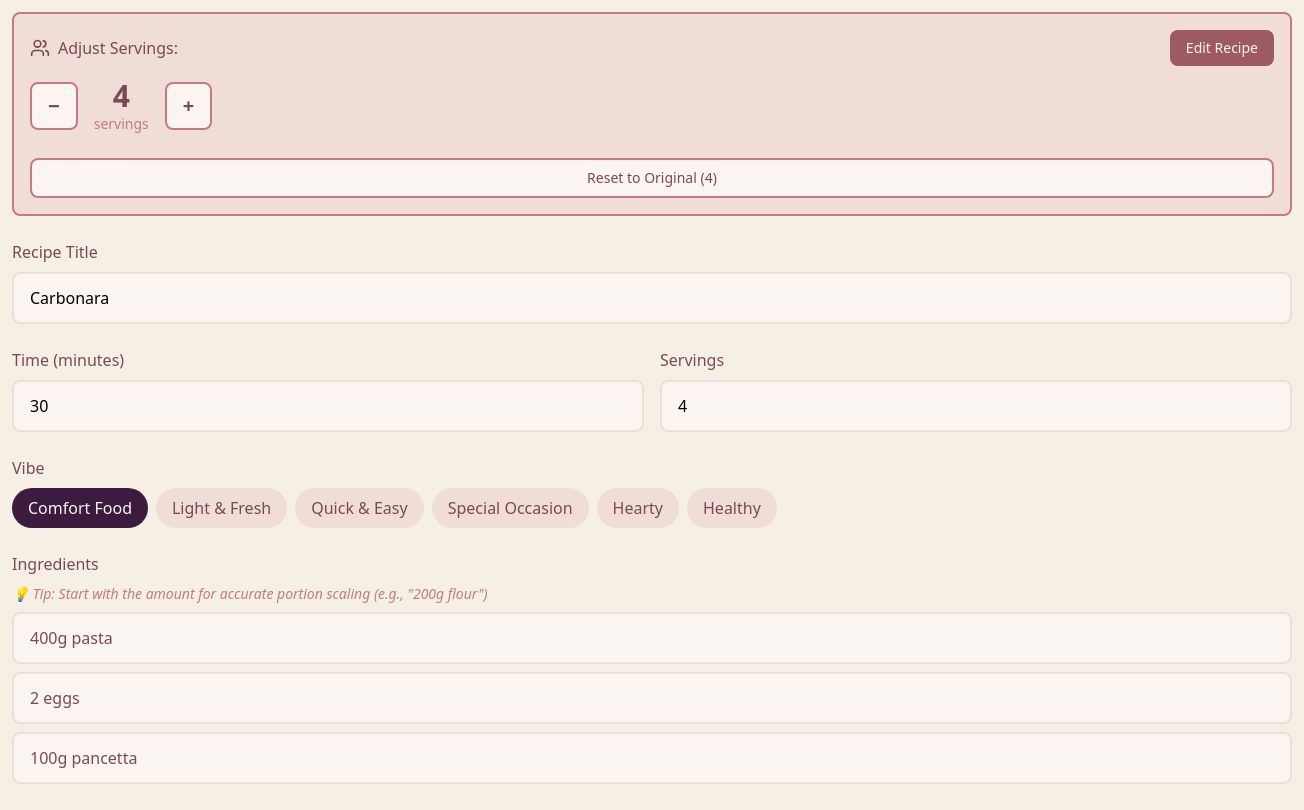
Scenario: switching from view to edit mode › should hide the portion calculator after switching to edit mode
Click the button "Edit Recipe": (1222, 48) [1170,30,1274,66]
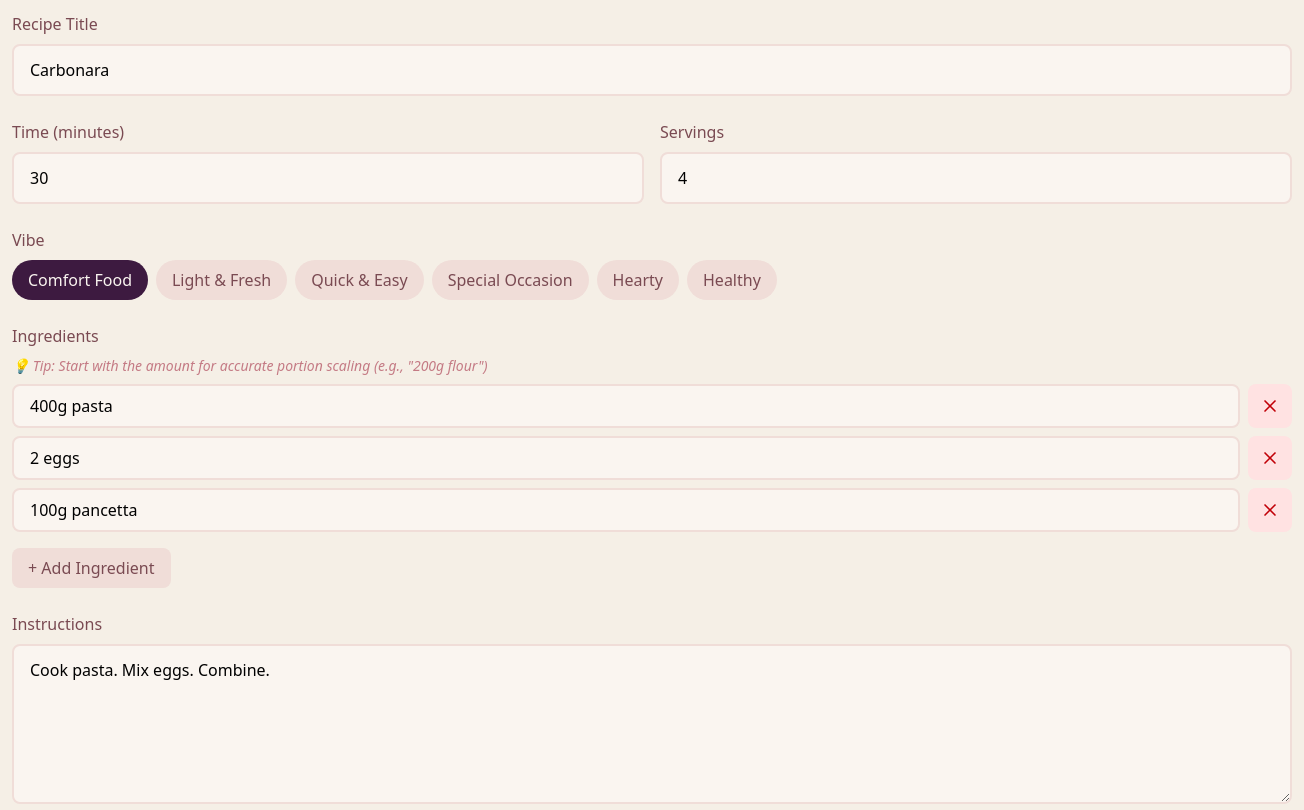
Check: the text "Adjust Servings" is gone
